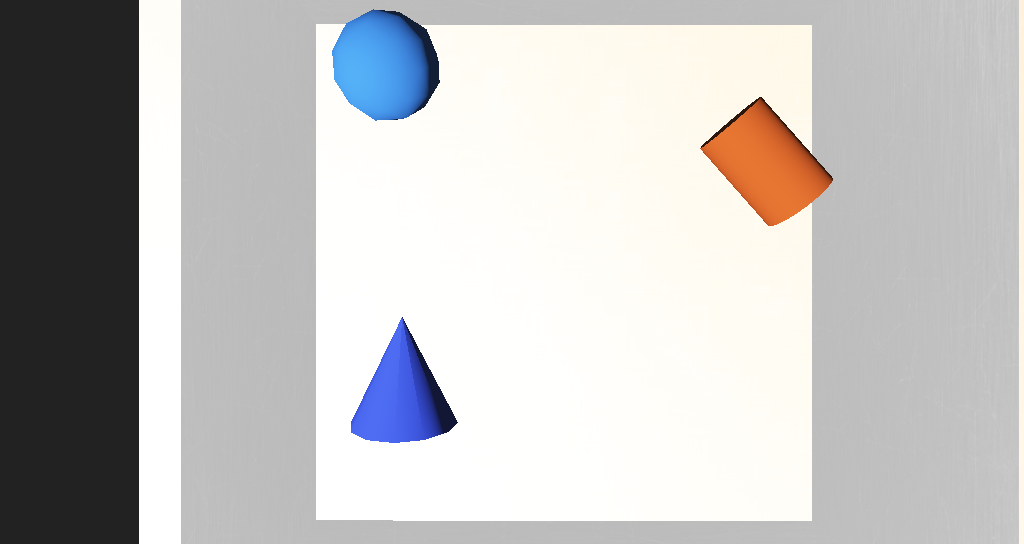cone: (586, 191, 667, 248)
cylinder: (371, 284, 438, 336)
sphere: (364, 157, 431, 205)
